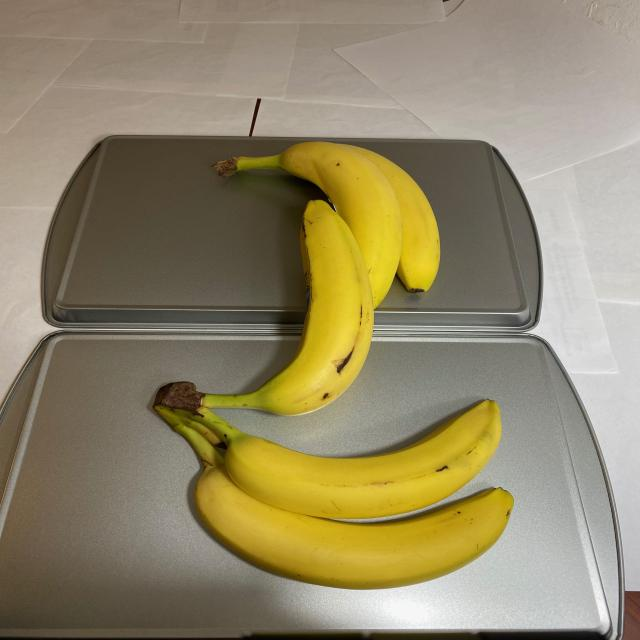banana: (153, 144, 526, 596)
